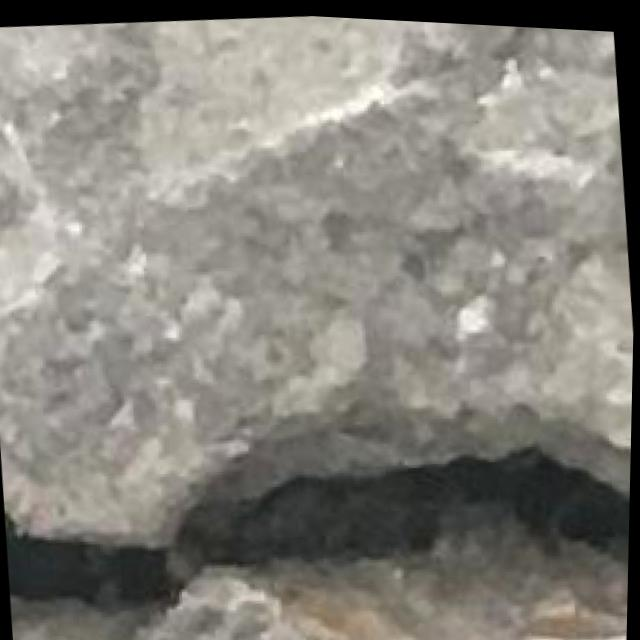Crack: (1, 377, 633, 640)
